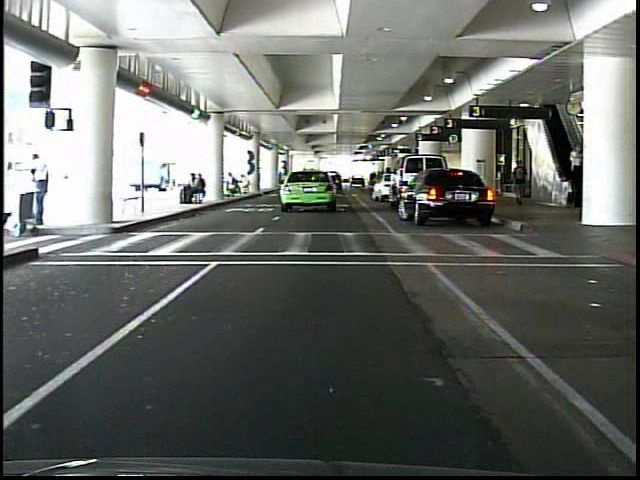person: (25, 151, 57, 229), (564, 141, 585, 200), (509, 157, 530, 210)
